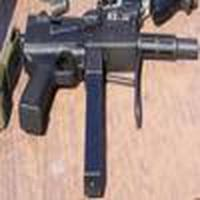gun: (15, 4, 200, 140)
